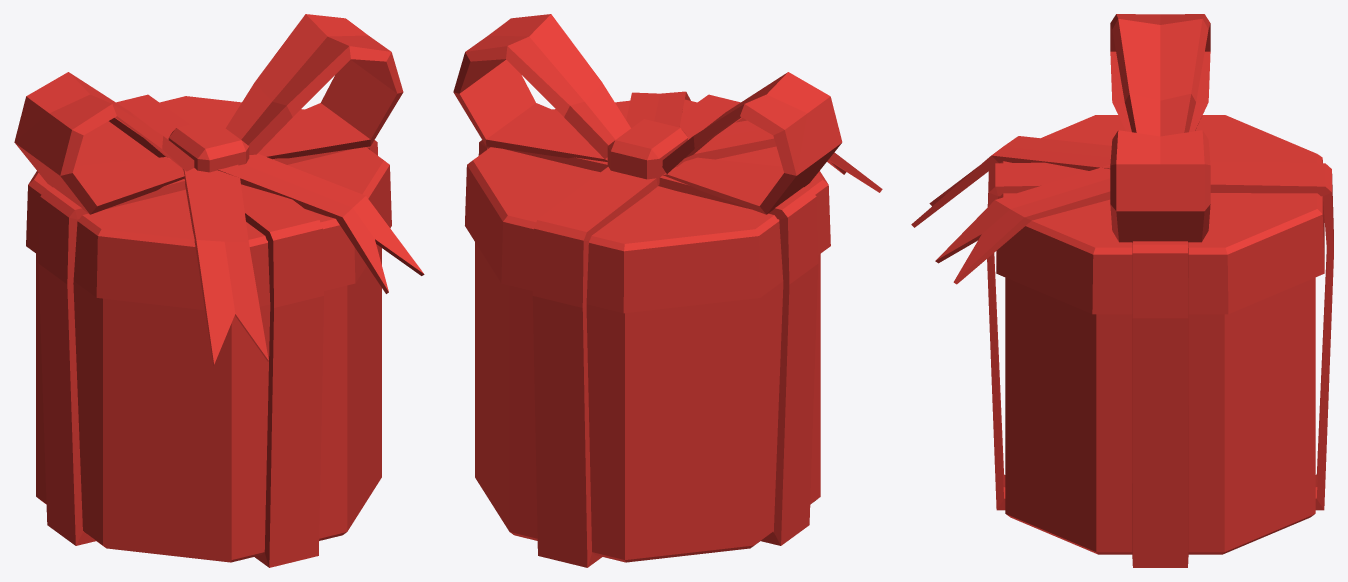
The model's file is SM_Gift_Christmas_Cylinder_A.fbx.
The picture shows the model from 3 angles, left to right: view 1: azimuth 30°, elevation 25°; view 2: azimuth 150°, elevation 25°; view 3: azimuth 270°, elevation 25°; orthographic projection. The views are drawn at different scales.
Parts seen in each view (by area): view 1: gift-christmas-cylinder-a; view 2: gift-christmas-cylinder-a; view 3: gift-christmas-cylinder-a.
Part boxes in pixels (<box>): gift-christmas-cylinder-a: <box>14,14,424,567</box>; gift-christmas-cylinder-a: <box>453,14,882,567</box>; gift-christmas-cylinder-a: <box>911,14,1333,567</box>.
Size of the model in its own units: 0.3038 by 0.3733 by 0.3367.
